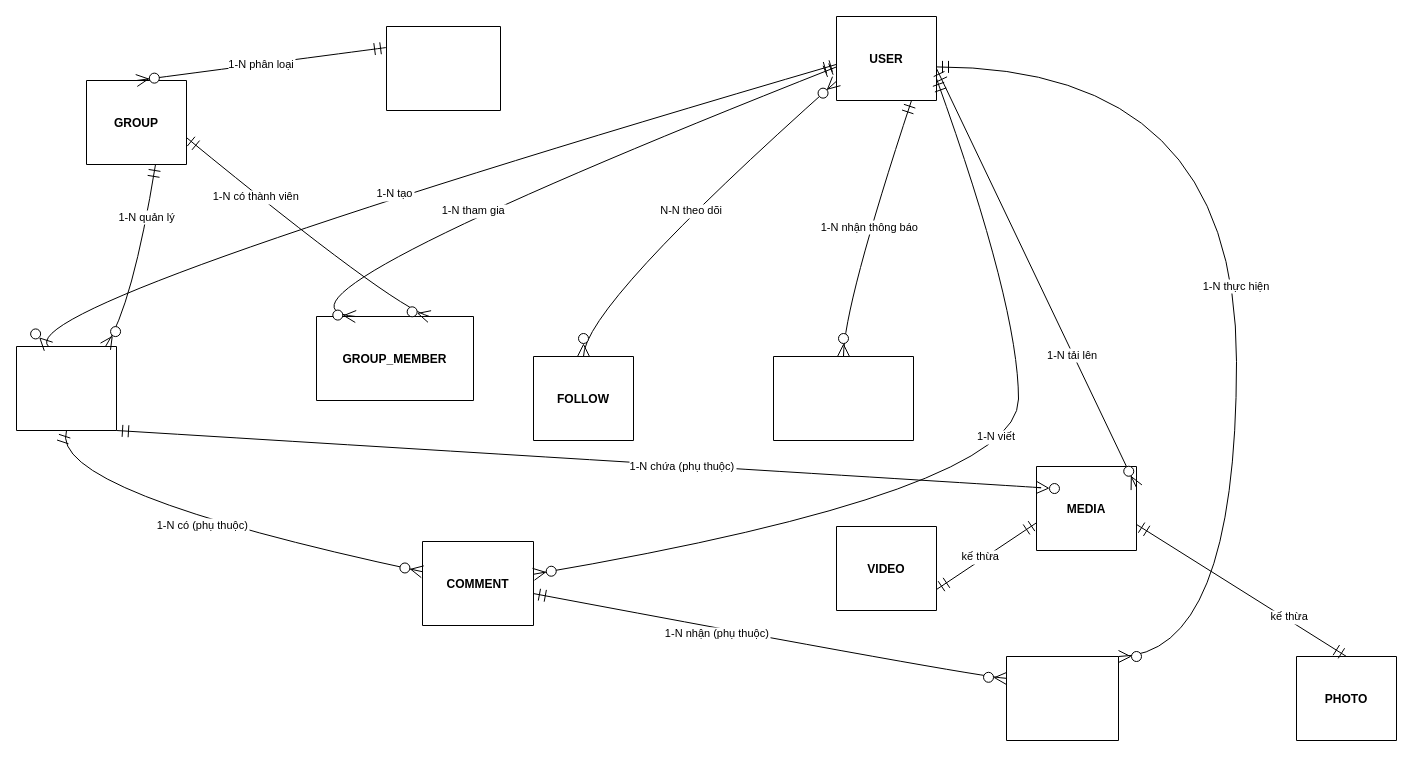
This 1413x757 diagram has some shape labels left out. Each missing label, with the centre of its shape:
CATEGORY: the point at 443,68
NOTIFICATION: the point at 843,398
POST: the point at 66,388
REACTION: the point at 1062,698
